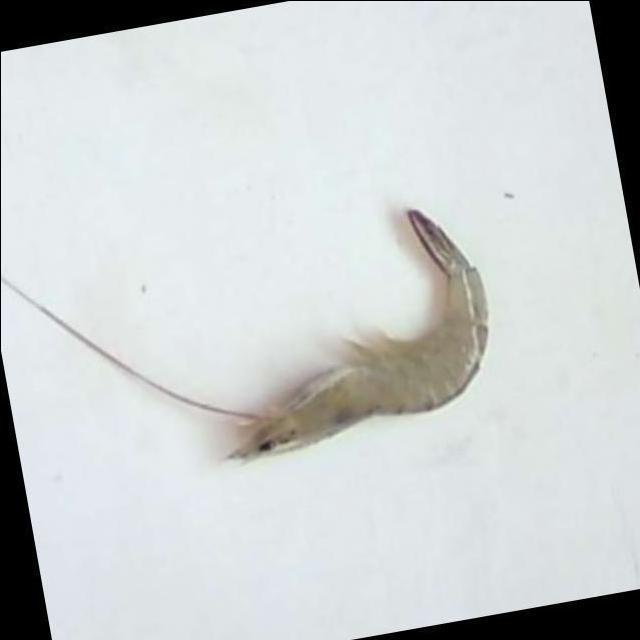shrimp: (229, 210, 487, 461)
